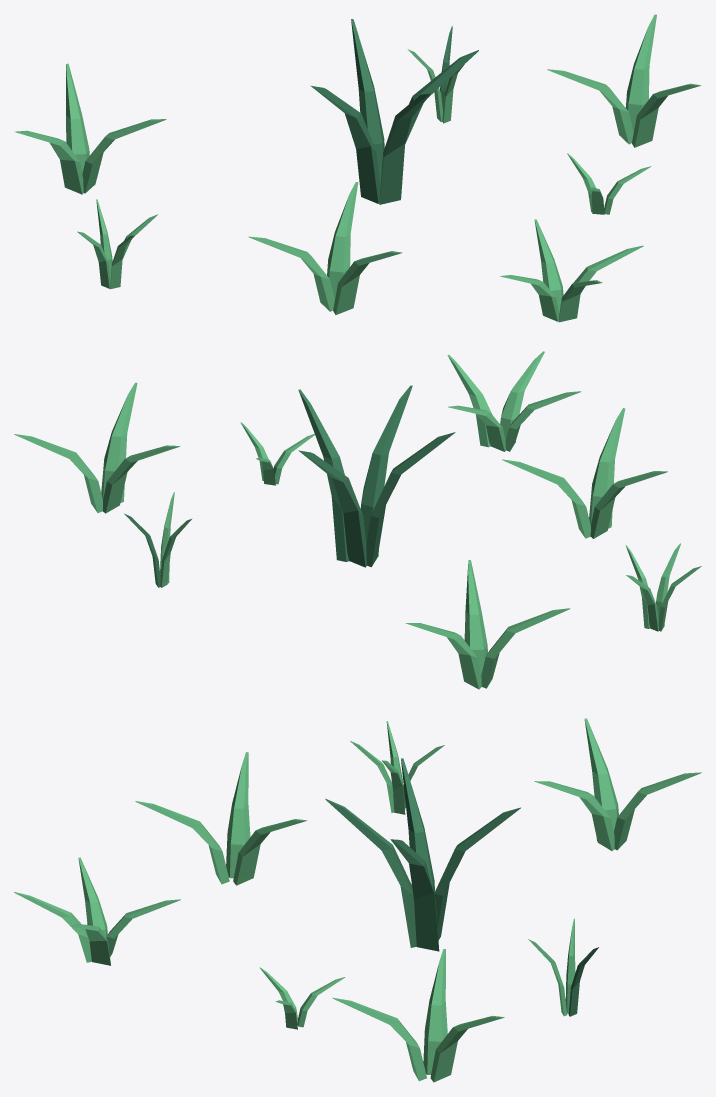
Rendered from SM_L_Grass.fbx.
The picture shows the model from 3 angles, top to bottom: view 1: azimuth 30°, elevation 25°; view 2: azimuth 150°, elevation 25°; view 3: azimuth 270°, elevation 25°; orthographic projection. The views are drawn at different scales.
Visible parts, largest first — view 1: SM_Grass; view 2: SM_Grass; view 3: SM_Grass.
Part boxes in pixels (x1=…): SM_Grass: x1=14, y1=14, x2=701, y2=322; SM_Grass: x1=14, y1=351, x2=701, y2=689; SM_Grass: x1=14, y1=718, x2=701, y2=1082.
Bounding box in the file's own units: 73.89 × 16.55 × 67.75.
Materials: 1 (1 with a texture image).
